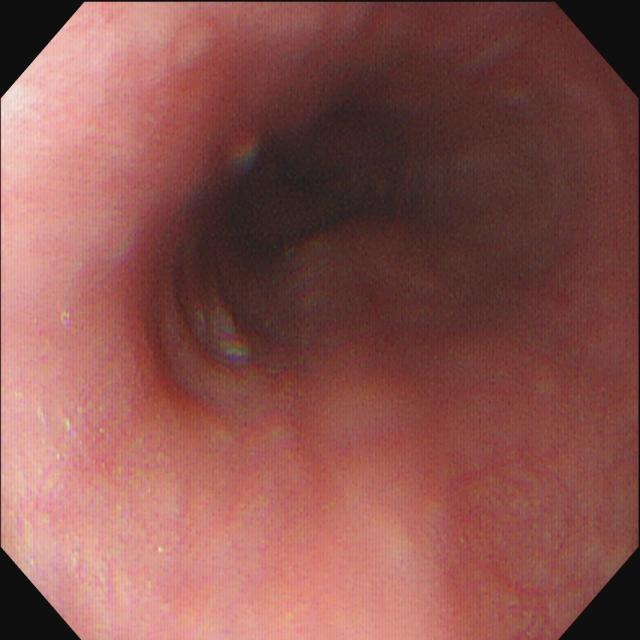E: (215, 104, 396, 276)
